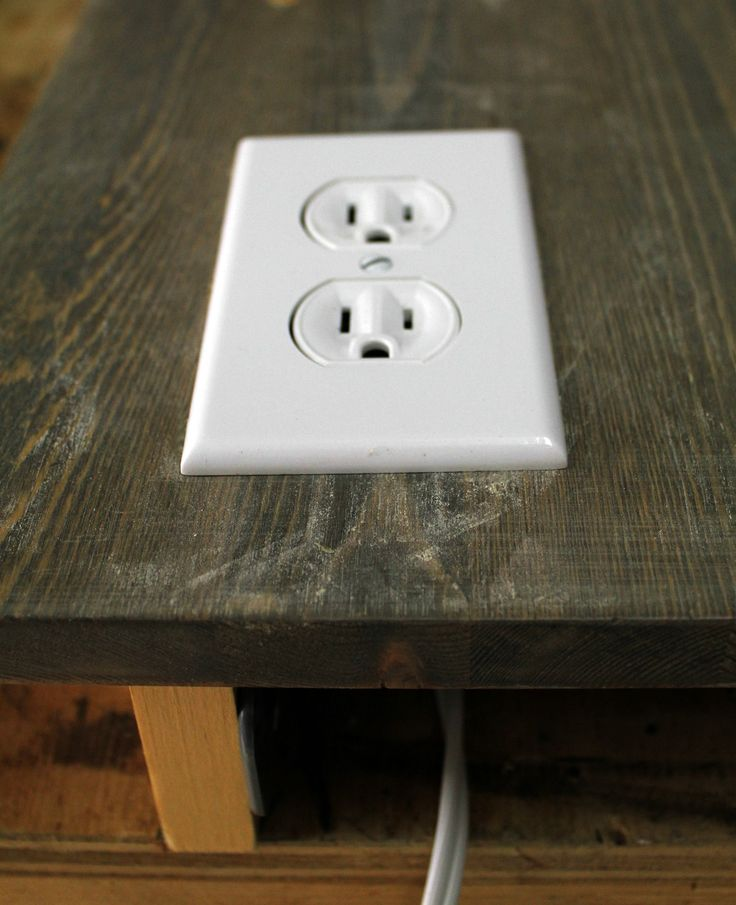outlet: (333, 298, 425, 367), (338, 196, 421, 247)
